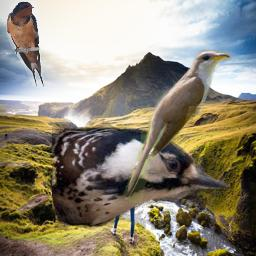Cuckoo: (121, 50, 231, 203)
Swallow: (6, 1, 44, 87)
Woodpecker: (52, 119, 230, 230)
